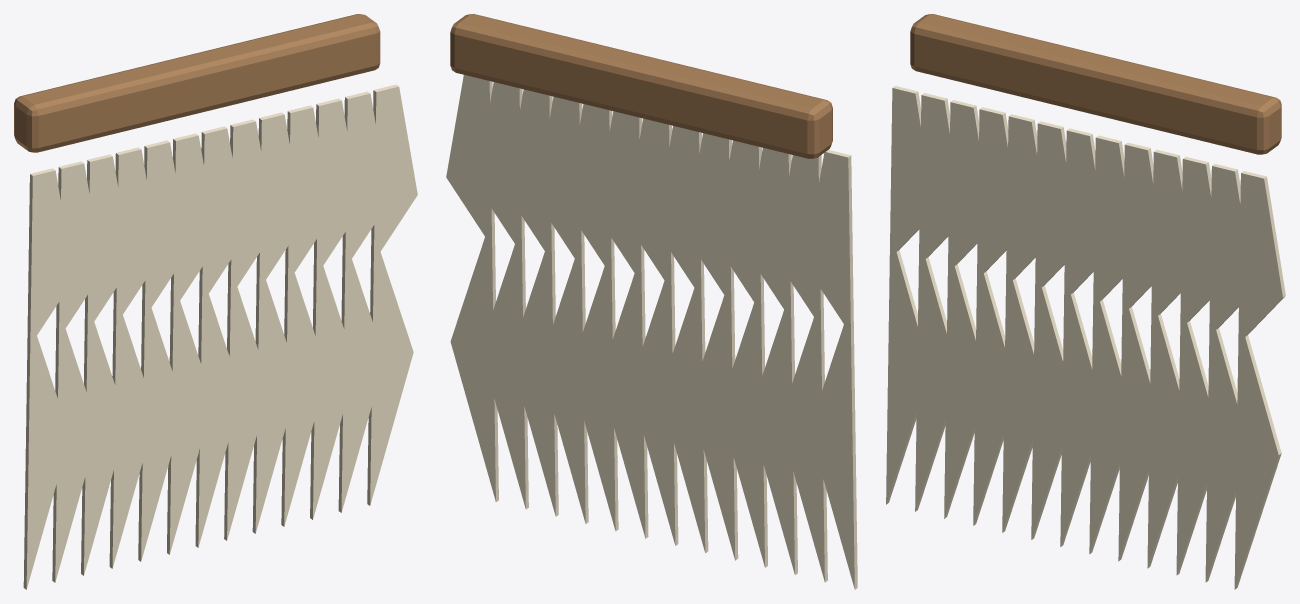
File: ritual_shide_bundle.glb
The picture shows the model from 3 angles, left to right: view 1: azimuth 30°, elevation 25°; view 2: azimuth 150°, elevation 25°; view 3: azimuth 330°, elevation 25°; orthographic projection. The views are drawn at different scales.
Visible parts, largest first — view 1: Bound shide top stave, White zigzag streamer, White zigzag streamer.006, White zigzag streamer.009, White zigzag streamer.003, White zigzag streamer.001, White zigzag streamer.012, White zigzag streamer.002, White zigzag streamer.011, White zigzag streamer.007, White zigzag streamer.004, White zigzag streamer.010 (+2 smaller); view 2: Bound shide top stave, White zigzag streamer, White zigzag streamer.003, White zigzag streamer.010, White zigzag streamer.006, White zigzag streamer.007, White zigzag streamer.005, White zigzag streamer.012, White zigzag streamer.002, White zigzag streamer.008, White zigzag streamer.009, White zigzag streamer.011 (+2 smaller); view 3: Bound shide top stave, White zigzag streamer.003, White zigzag streamer.012, White zigzag streamer, White zigzag streamer.008, White zigzag streamer.001, White zigzag streamer.010, White zigzag streamer.011, White zigzag streamer.009, White zigzag streamer.007, White zigzag streamer.006, White zigzag streamer.002 (+2 smaller).
Boxes of the visible parts, x1,y1,x2,y2 form: Bound shide top stave: [14, 14, 380, 152]; White zigzag streamer: [23, 168, 74, 589]; White zigzag streamer.006: [195, 126, 245, 547]; White zigzag streamer.009: [281, 105, 331, 526]; White zigzag streamer.003: [109, 147, 159, 568]; White zigzag streamer.001: [52, 161, 102, 582]; White zigzag streamer.012: [367, 84, 417, 505]; White zigzag streamer.002: [81, 154, 131, 575]; White zigzag streamer.011: [338, 91, 388, 512]; White zigzag streamer.007: [224, 119, 274, 540]; White zigzag streamer.004: [138, 140, 188, 561]; White zigzag streamer.010: [310, 98, 360, 519]; Bound shide top stave: [450, 14, 832, 158]; White zigzag streamer: [805, 150, 857, 589]; White zigzag streamer.003: [715, 140, 767, 567]; White zigzag streamer.010: [506, 89, 558, 516]; White zigzag streamer.006: [625, 118, 678, 545]; White zigzag streamer.007: [596, 111, 648, 538]; White zigzag streamer.005: [655, 126, 708, 552]; White zigzag streamer.012: [446, 75, 498, 501]; White zigzag streamer.002: [746, 148, 797, 574]; White zigzag streamer.008: [566, 104, 618, 531]; White zigzag streamer.009: [540, 97, 588, 523]; White zigzag streamer.011: [476, 82, 528, 509]; Bound shide top stave: [910, 14, 1281, 154]; White zigzag streamer.003: [973, 107, 1021, 525]; White zigzag streamer.012: [1234, 171, 1285, 589]; White zigzag streamer: [886, 86, 934, 504]; White zigzag streamer.008: [1118, 142, 1166, 561]; White zigzag streamer.001: [915, 93, 963, 511]; White zigzag streamer.010: [1176, 157, 1224, 575]; White zigzag streamer.011: [1205, 164, 1253, 582]; White zigzag streamer.009: [1147, 149, 1195, 568]; White zigzag streamer.007: [1089, 135, 1137, 554]; White zigzag streamer.006: [1060, 128, 1108, 546]; White zigzag streamer.002: [944, 100, 992, 518].
Bounding box in the file's own units: 1.69 × 1.95 × 0.213.
